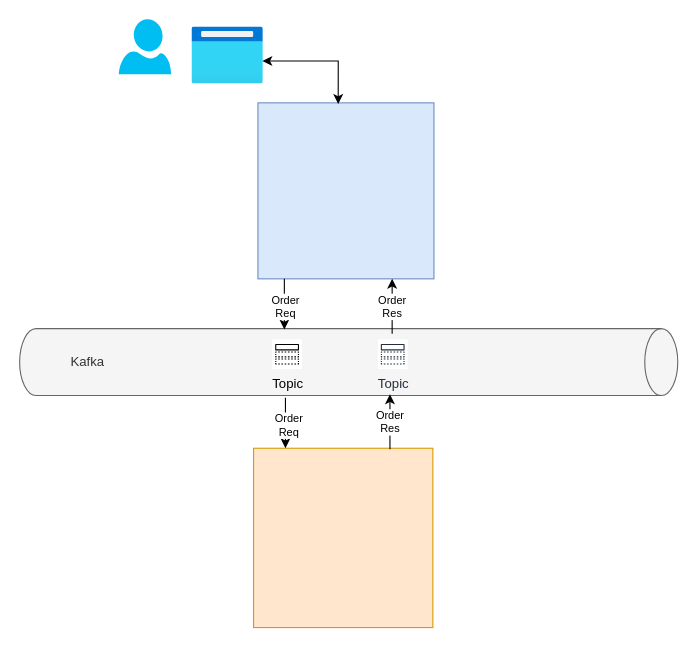
This 697x647 diagram has some shape labels left out. The shapes that lost their labels are listed below. From the top down, each one's centre as x and y in pixels, then its label:
At point 345,190: "MuleSoft".
At point 342,537: "Satilite Order Ms".
